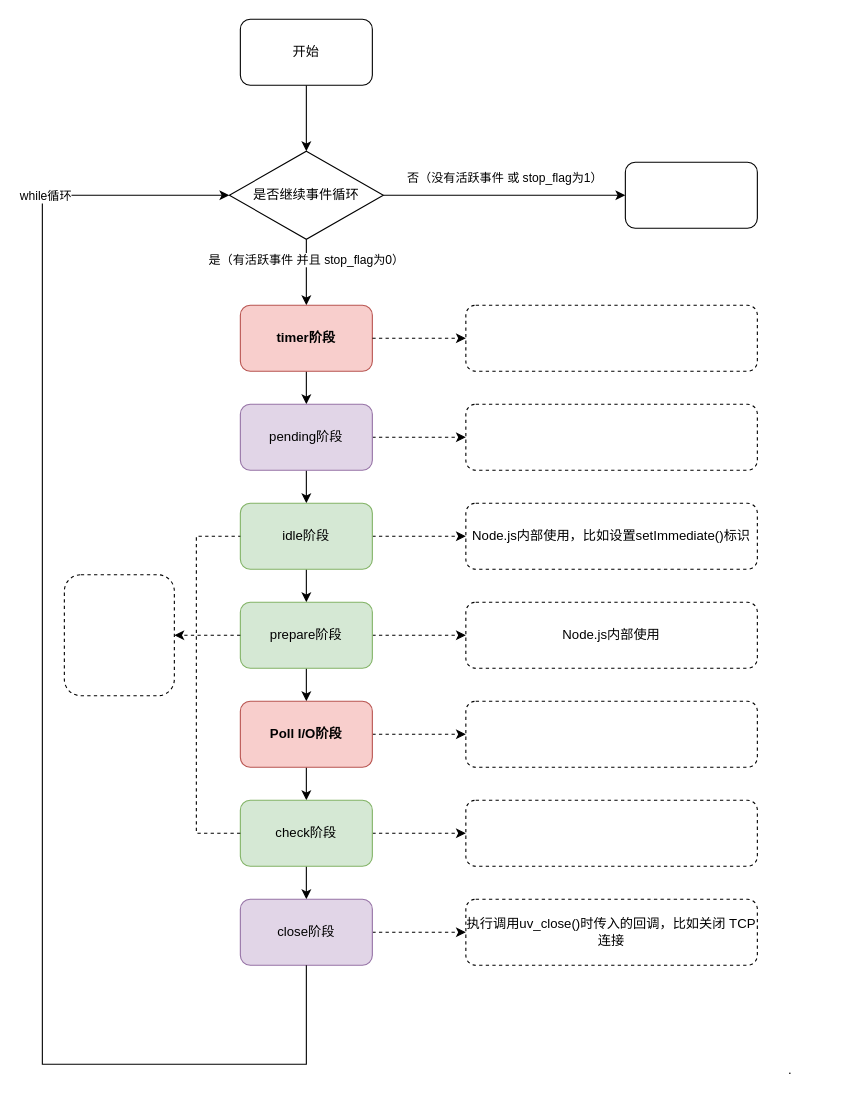
The diagram is 842 pixels wide and 1106 high, and some of its shapes have lost their labels. Here are the shapes that lost their labels. From the top down, the box of each, then its label:
(624, 161, 757, 228): 结束
(465, 304, 757, 371): 执行定时器：setTimeout()和setInterval()
(465, 403, 757, 470): 处理上一轮循环中 Poll I/O 阶段产生的一些回调，比如执行TCP连接失败时的错误回调
(63, 574, 174, 696): 这3个阶段的实现是一样的，只是执行时机不一样
(465, 700, 757, 767): 所有和文件描述符相关的任务，比如网络IO 、线程池完成任务、信号等
(465, 799, 757, 866): 执行setImmediate()
